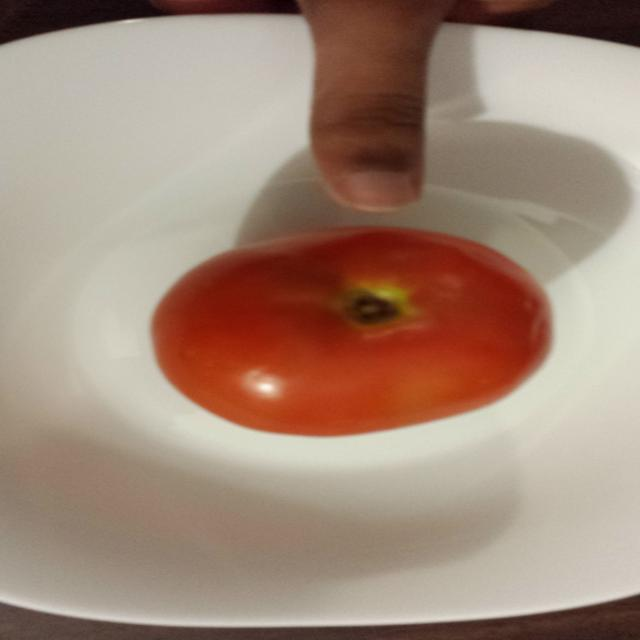tomato: (149, 225, 554, 437)
